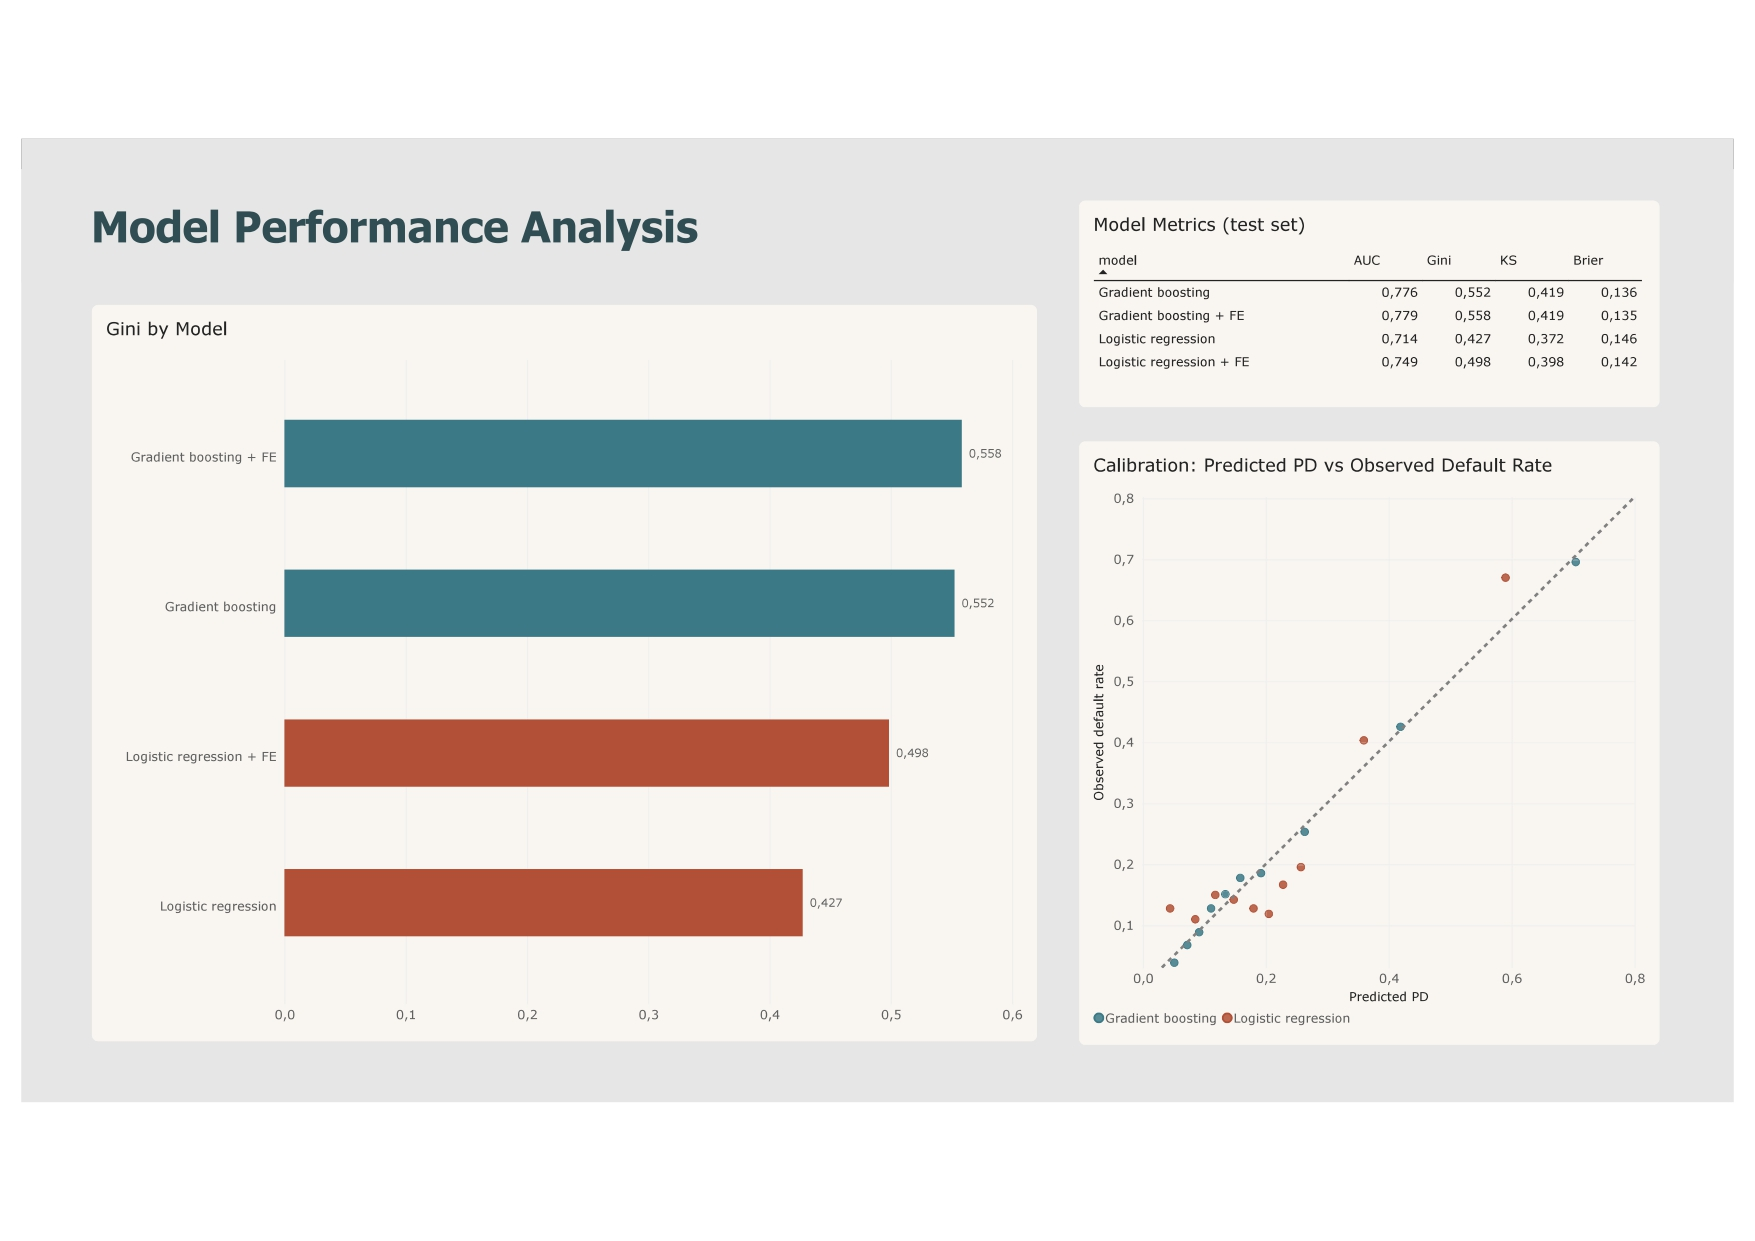

This screenshot's page, from the dashboard's own definition file:
{"tool":"powerbi","page":{"name":"Model Performance","canvas":[1920,1080],"ordinal":1},"visuals":[{"type":"clusteredBarChart","title":"Gini by Model","fields":{"Category":["model_results.model"],"Y":["Sum(model_results.Gini)"]},"box":[77.5,185,1062.5,827.5],"z":0},{"type":"tableEx","title":"Model Metrics (test set)","fields":{"Values":["model_results.model","Sum(model_results.AUC)","Sum(model_results.Gini)","Sum(model_results.KS)","Sum(model_results.Brier)"]},"box":[1185.3,67.5,652.5,234.6],"z":1000},{"type":"scatterChart","title":"Calibration: Predicted PD vs Observed Default Rate","fields":{"Category":["calibration.bin"],"Series":["calibration.model"],"X":["Sum(calibration.predicted_PD)"],"Y":["Sum(calibration.observed_rate)"]},"box":[1185.3,337.5,652.5,679.2],"z":2000},{"type":"textbox","box":[77.5,67.5,1062.5,117.5],"z":2001}]}

Visuals, with their boxes on the page's 1920x1080 design canvas (x1, y1, x2, y2). These are canvas units, not pixel positions in the 1755x1241 screenshot, which may show the page scaled, cropped or inside an application window:
"Gini by Model" clusteredBarChart: pyautogui.locateOnScreen(78, 185, 1140, 1012)
"Model Metrics (test set)" tableEx: pyautogui.locateOnScreen(1185, 68, 1838, 302)
"Calibration: Predicted PD vs Observed Default Rate" scatterChart: pyautogui.locateOnScreen(1185, 338, 1838, 1017)
textbox: pyautogui.locateOnScreen(78, 68, 1140, 185)
